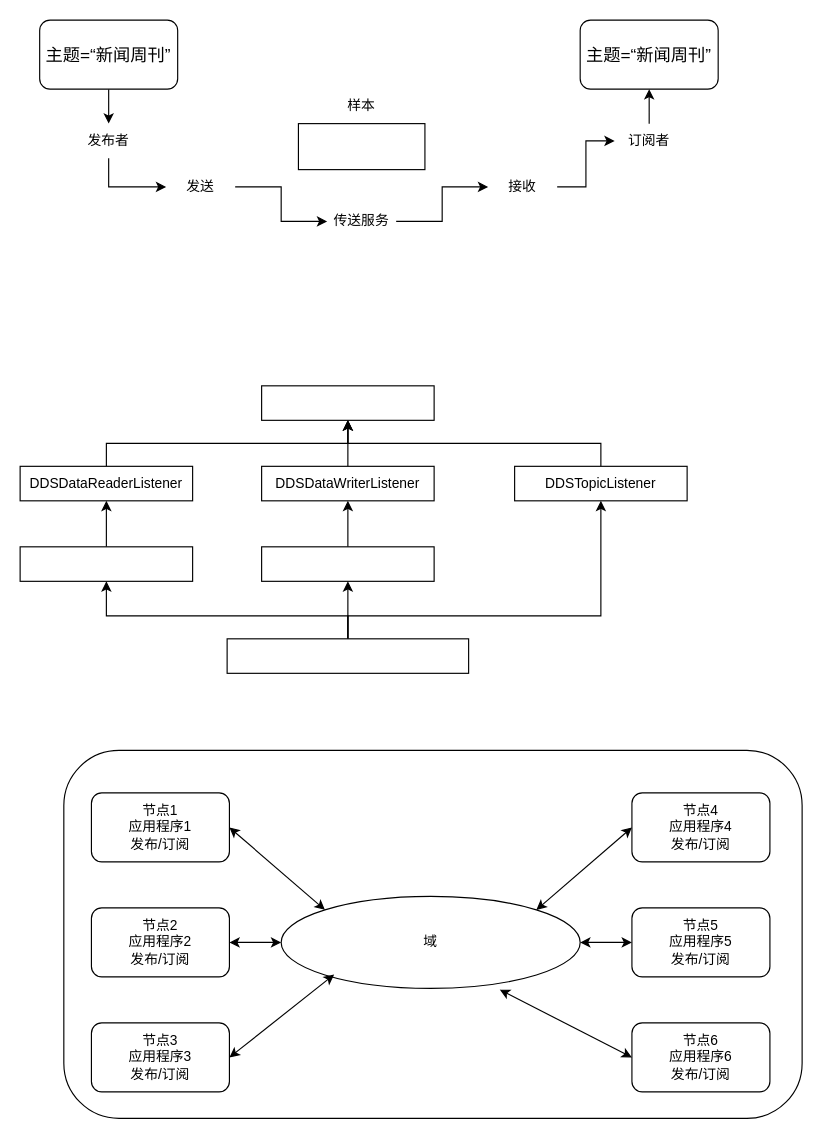
Image size: 822x1139. Some labels were removed from this diagram. Each missing label, with the centre of its shape:
"DDSDomainParticipantListener" belongs at point 347,655.
"DDSListener" belongs at point 347,402.
"DDSPublisherListener" belongs at point 347,563.
"DDSSubscriberListener" belongs at point 106,563.
"二月十五号发行" belongs at point 361,146.
